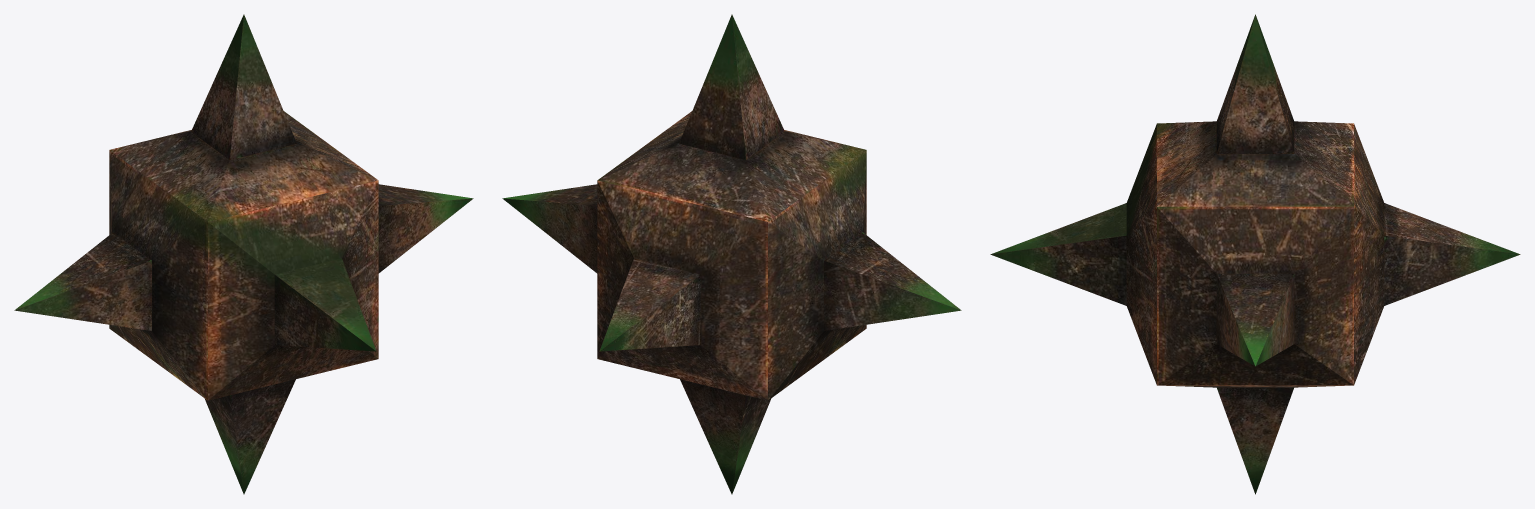
File: Pinche_4toB.fbx
3 views of the same model, side by side, from view 1: azimuth 30°, elevation 25°; view 2: azimuth 150°, elevation 25°; view 3: azimuth 270°, elevation 25° (orthographic).
Visible parts, largest first — view 1: Pinche; view 2: Pinche; view 3: Pinche.
Part boxes in pixels (box(x1,y1,x2,y2)): Pinche: box(14, 14, 473, 494); Pinche: box(502, 14, 961, 494); Pinche: box(990, 14, 1520, 494).
Size of the model in its own units: 927 by 927 by 927.
Materials: 1 (1 with a texture image).
